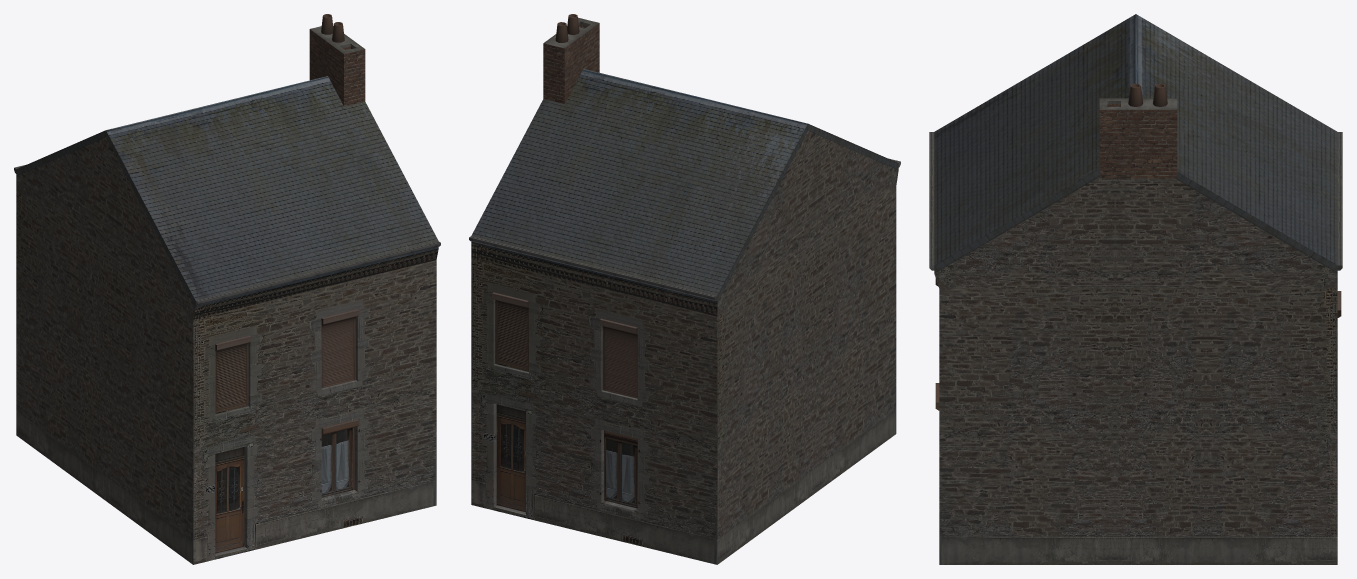
File: fumay_house_1_france.glb
3 renders of one model, left to right at view 1: azimuth 30°, elevation 25°; view 2: azimuth 150°, elevation 25°; view 3: azimuth 270°, elevation 25°, orthographic. The views are drawn at different scales.
Visible parts, largest first — view 1: Cube.001; view 2: Cube.001; view 3: Cube.001.
Boxes of the visible parts, <box> form: Cube.001: <box>14,14,440,564</box>; Cube.001: <box>469,14,900,564</box>; Cube.001: <box>929,14,1342,564</box>.
Size of the model in its own units: 6.35 by 10.48 by 8.3.
1 material, 1 textured.
